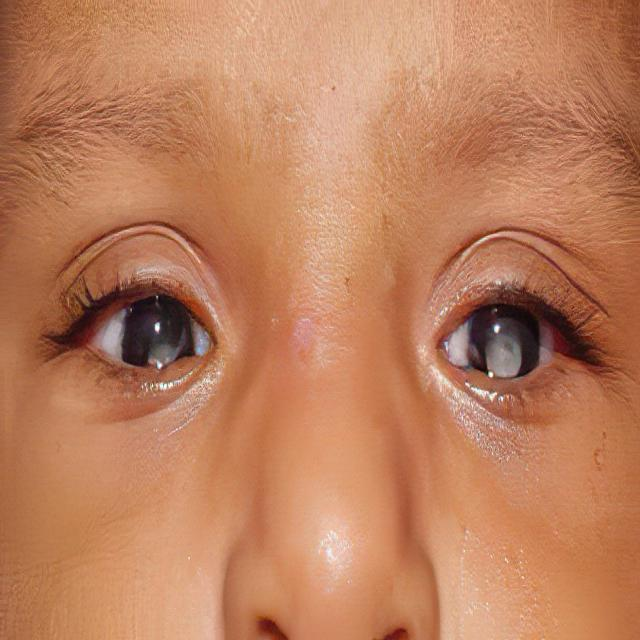reflexo-alterado: (420, 240, 614, 426), (64, 250, 203, 424)
